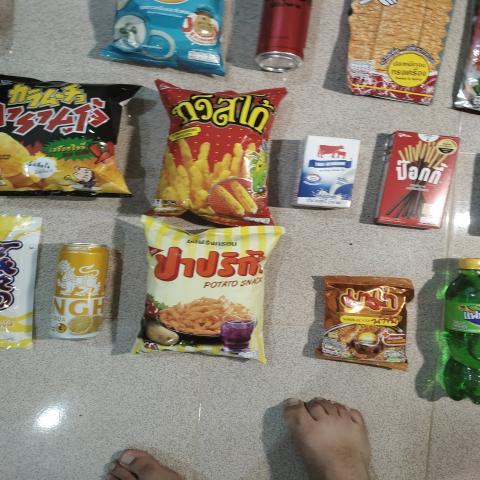bento_red: (336, 0, 448, 91)
fanta_green: (445, 257, 480, 412)
karamujo: (0, 75, 133, 200)
mama: (326, 281, 418, 360)
paprika: (142, 224, 269, 360)
pokki: (386, 128, 446, 223)
singha_yellow: (57, 238, 107, 347)
thai_denmark: (299, 134, 362, 218)
twisco: (156, 83, 279, 226)
